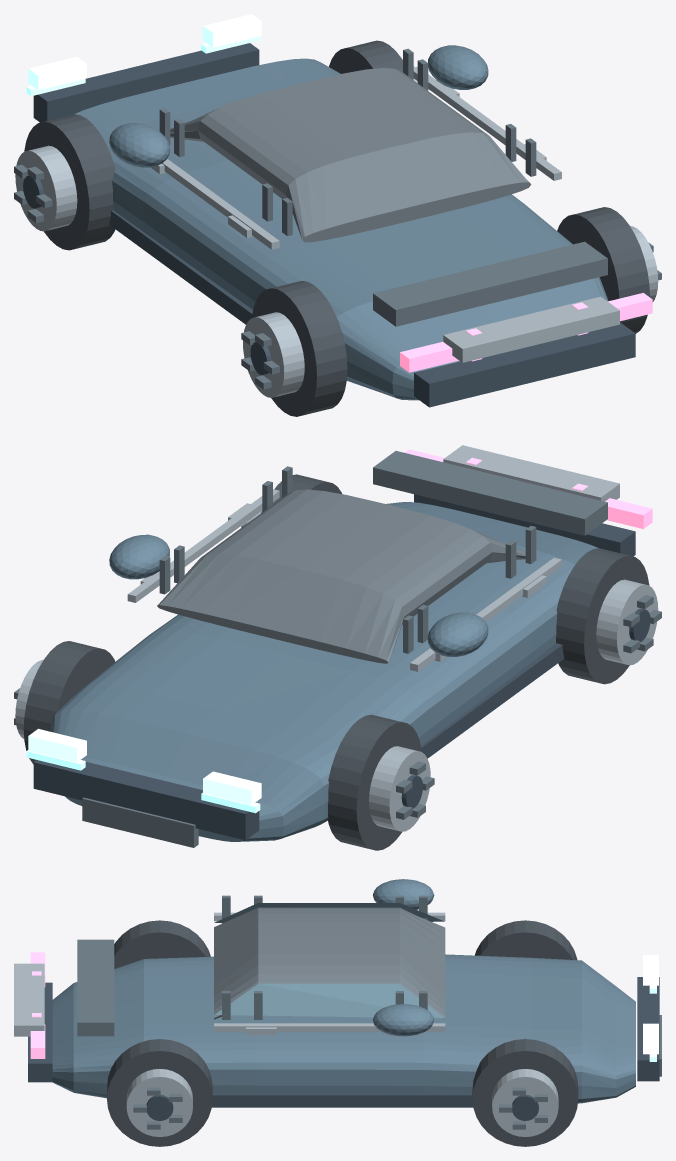
File: sport.glb
3 renders of one model, top to bottom at view 1: azimuth 30°, elevation 25°; view 2: azimuth 150°, elevation 25°; view 3: azimuth 270°, elevation 25°, orthographic. The views are drawn at different scales.
Visible parts, largest first — view 1: curved-monocoque-shell, cabin-and-roof, rubber, dark, alum, frame, midnight, headlight, red, neon; view 2: curved-monocoque-shell, cabin-and-roof, rubber, frame, alum, dark, midnight, headlight, red, neon; view 3: curved-monocoque-shell, cabin-and-roof, rubber, alum, dark, glass, frame, midnight, headlight, red.
Part boxes in pixels (bbox=[...]): curved-monocoque-shell: bbox=[74, 58, 608, 400]; cabin-and-roof: bbox=[170, 68, 531, 242]; rubber: bbox=[24, 40, 649, 416]; dark: bbox=[23, 43, 635, 407]; alum: bbox=[15, 59, 658, 397]; frame: bbox=[14, 48, 661, 389]; midnight: bbox=[109, 45, 488, 167]; headlight: bbox=[28, 14, 261, 90]; red: bbox=[400, 293, 652, 372]; neon: bbox=[26, 36, 260, 96]; curved-monocoque-shell: bbox=[50, 502, 598, 841]; cabin-and-roof: bbox=[157, 489, 525, 663]; rubber: bbox=[23, 474, 649, 850]; frame: bbox=[14, 451, 661, 847]; alum: bbox=[15, 445, 658, 831]; dark: bbox=[33, 494, 650, 840]; midnight: bbox=[109, 534, 488, 656]; headlight: bbox=[28, 728, 261, 804]; red: bbox=[404, 449, 652, 528]; neon: bbox=[26, 750, 260, 813]; curved-monocoque-shell: bbox=[52, 954, 635, 1103]; cabin-and-roof: bbox=[214, 907, 445, 1019]; rubber: bbox=[107, 920, 578, 1146]; alum: bbox=[14, 912, 558, 1136]; dark: bbox=[28, 977, 659, 1120]; glass: bbox=[214, 903, 444, 1018]; frame: bbox=[77, 895, 661, 1129]; midnight: bbox=[373, 879, 434, 1036]; headlight: bbox=[643, 955, 658, 1054]; red: bbox=[30, 952, 45, 1058].
Size of the model in its own units: 2.94 by 1.29 by 5.27.
